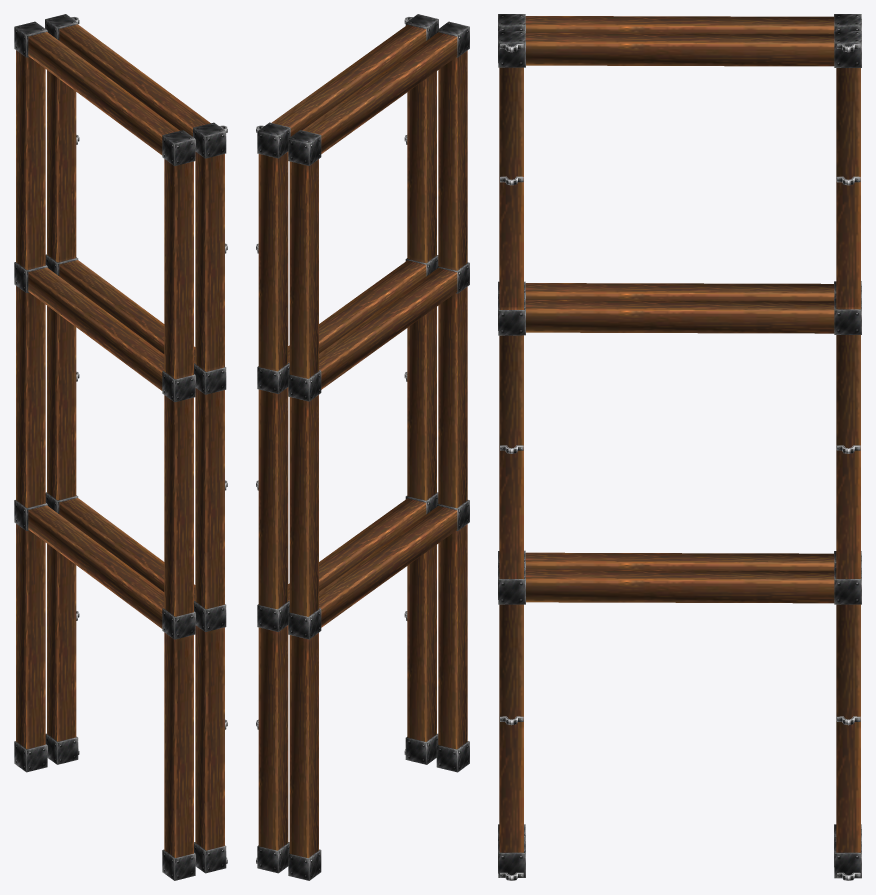
Rendered from SWORDLIGHT20_MAINGATEBRACKET01.fbx.
The picture shows the model from 3 angles, left to right: view 1: azimuth 30°, elevation 25°; view 2: azimuth 150°, elevation 25°; view 3: azimuth 270°, elevation 25°; orthographic projection. The views are drawn at different scales.
Visible parts, largest first — view 1: SWORDLIGHT20_MAINGATEBRACKET01; view 2: SWORDLIGHT20_MAINGATEBRACKET01; view 3: SWORDLIGHT20_MAINGATEBRACKET01.
Boxes of the visible parts, left/top/right/bottom form: SWORDLIGHT20_MAINGATEBRACKET01: left=14, top=14, right=227, bottom=880; SWORDLIGHT20_MAINGATEBRACKET01: left=256, top=14, right=469, bottom=880; SWORDLIGHT20_MAINGATEBRACKET01: left=498, top=14, right=861, bottom=880.
Bounding box in the file's own units: 12518 × 150157 × 59274.
Materials: 3 (3 with a texture image).
